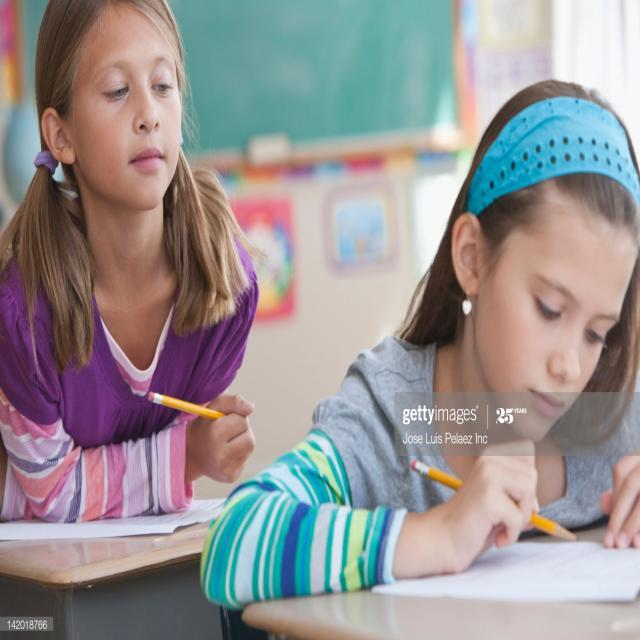cheating: (0, 2, 286, 543)
